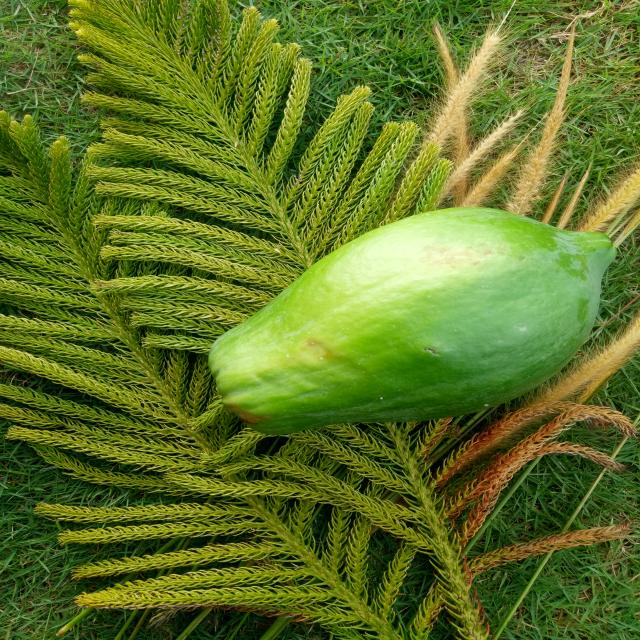Pepaya unrippen: (196, 210, 622, 434)
